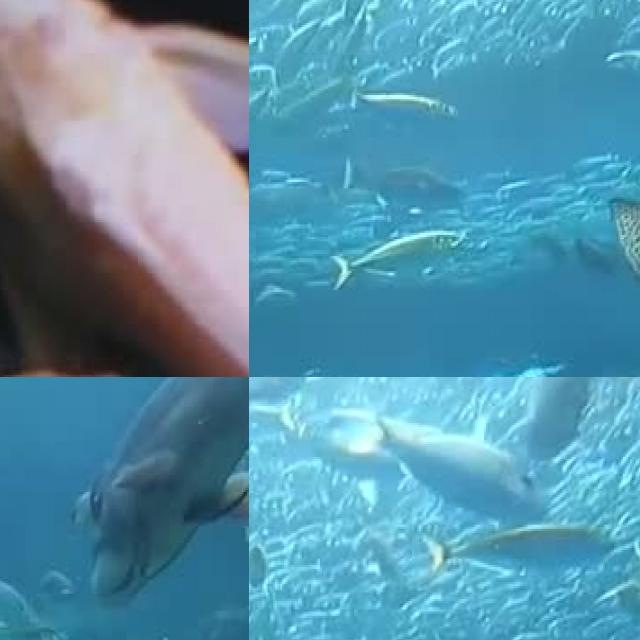fish: (0, 0, 249, 377), (83, 377, 249, 619)
